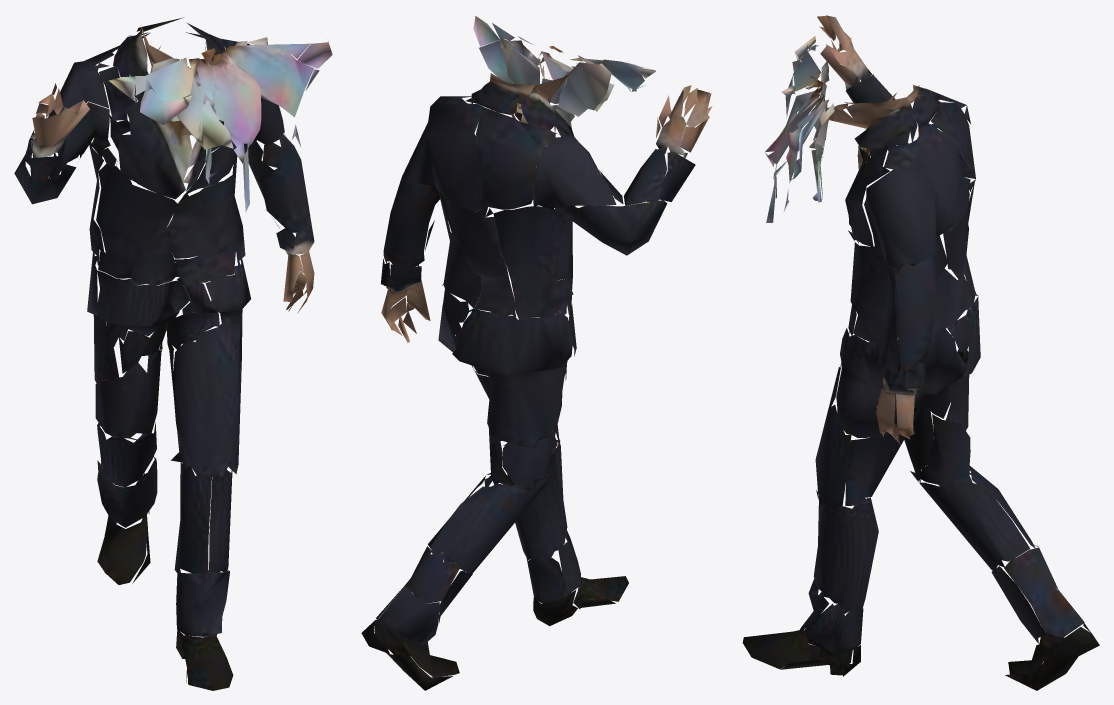
Rendered from crowd_wiseguy_body.glb.
The picture shows the model from 3 angles, left to right: view 1: azimuth 30°, elevation 25°; view 2: azimuth 150°, elevation 25°; view 3: azimuth 270°, elevation 25°; orthographic projection. The views are drawn at different scales.
Visible parts, largest first — view 1: tripo_node_096ba9d0-4f72-4ce4-bbae-e90f7e3d7e71; view 2: tripo_node_096ba9d0-4f72-4ce4-bbae-e90f7e3d7e71; view 3: tripo_node_096ba9d0-4f72-4ce4-bbae-e90f7e3d7e71.
Boxes of the visible parts, x1,y1,x2,y2 form: tripo_node_096ba9d0-4f72-4ce4-bbae-e90f7e3d7e71: (14, 17, 332, 690); tripo_node_096ba9d0-4f72-4ce4-bbae-e90f7e3d7e71: (361, 16, 712, 690); tripo_node_096ba9d0-4f72-4ce4-bbae-e90f7e3d7e71: (742, 15, 1099, 690).
Bounding box in the file's own units: 0.4331 × 0.803 × 0.4427.
Materials: 1 (1 with a texture image).
